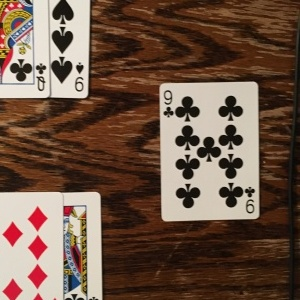card: (158, 79, 261, 221)
